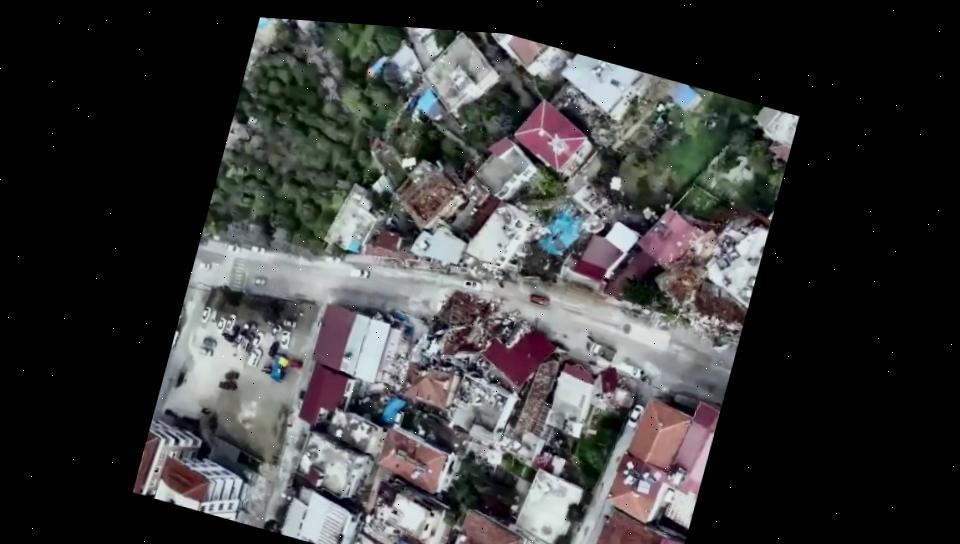kapali: (413, 268, 593, 358)
